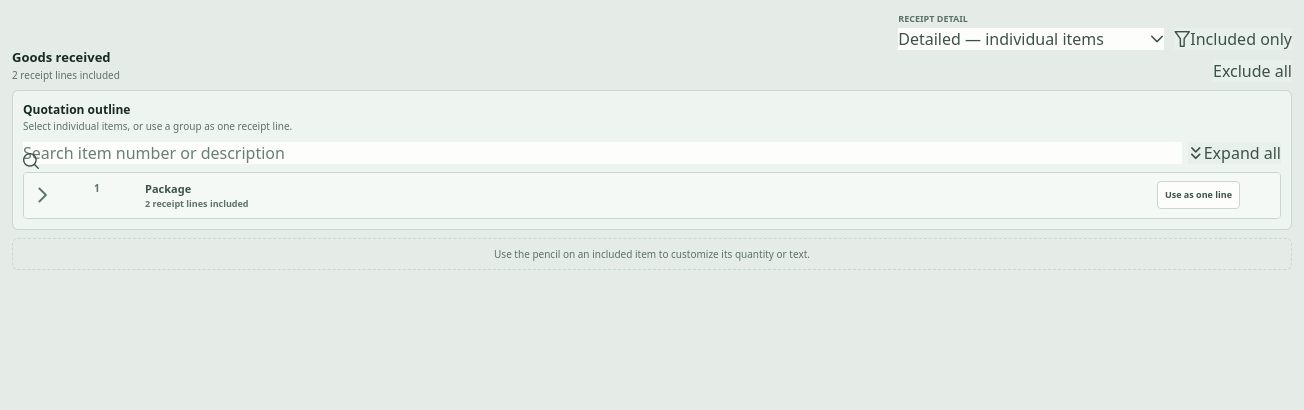
GoodsReceiptItemsEditor › uses the hierarchy as the only inclusion surface and filters to included paths
Click the button "Included only": (1233, 39) [1174,28,1292,50]
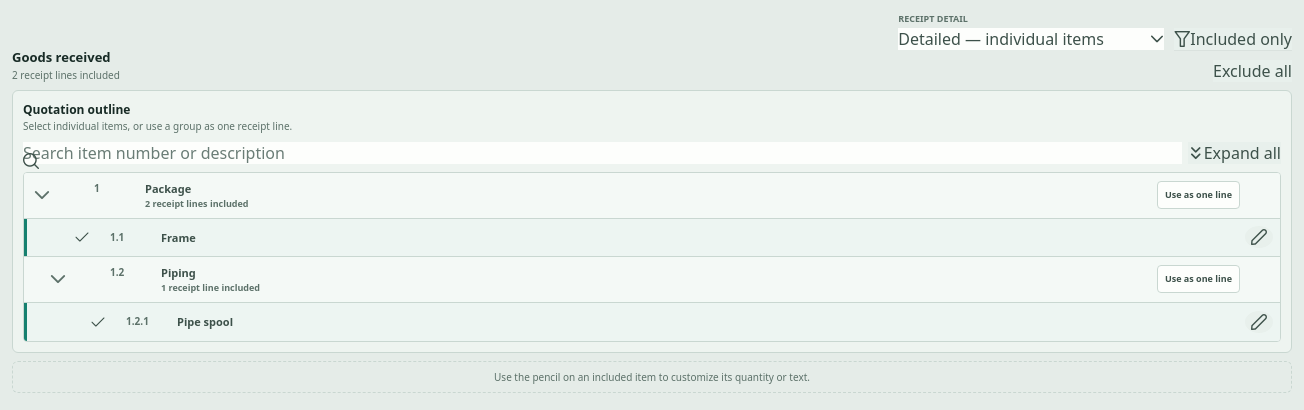
Result: the number of list items with class "goods-receipt-outline-row" is 4 at [24,172,1280,218]; [24,218,1280,256]; [24,256,1280,302]; [24,302,1280,340]
Result: the text "Frame" is shown at [161,230,196,244]
Result: the text "Pipe spool" is shown at [177,314,233,329]
Click the button "Exclude all": (1252, 71) [1213,60,1292,82]
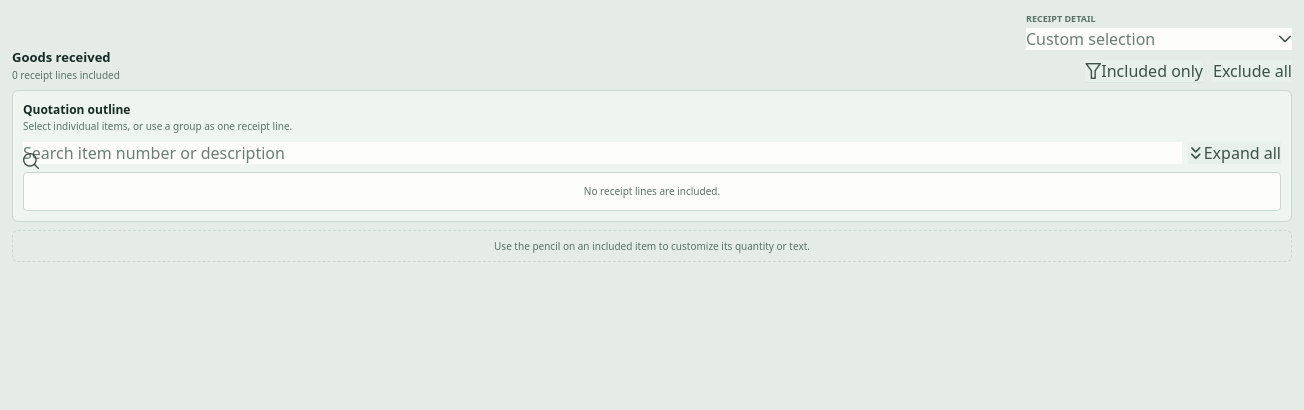
Result: no list items with class "goods-receipt-outline-row" are shown
Result: the text "No receipt lines are included." is shown at [584,184,720,198]
